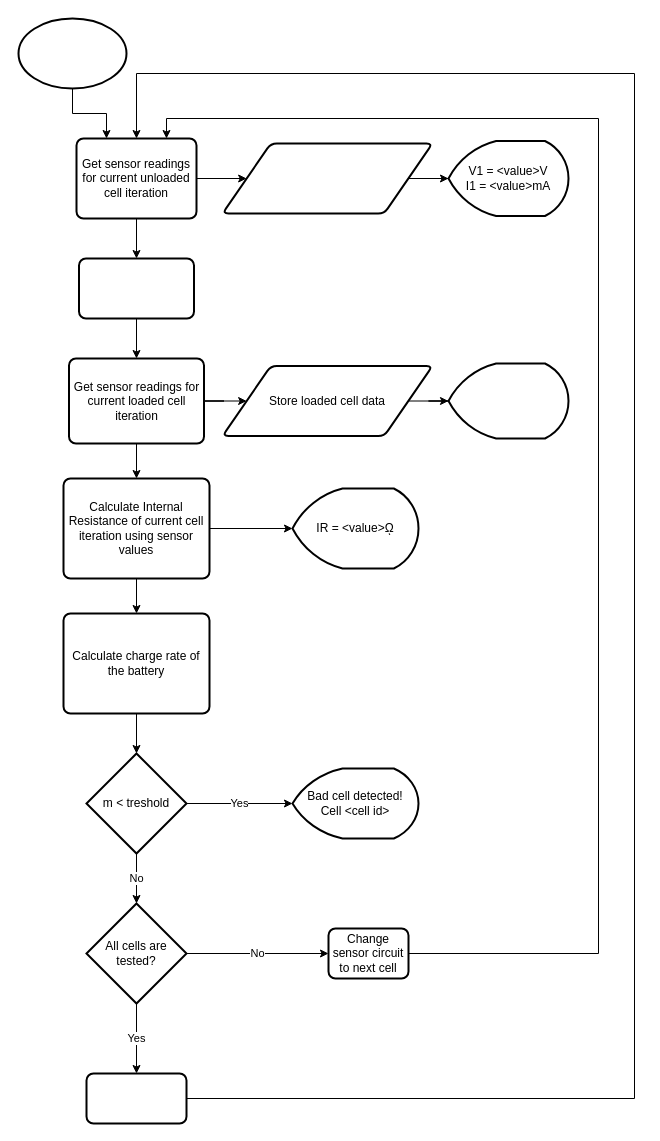
This 660x1141 diagram has some shape labels left out. The box of each missing label's shape, as (x1, y1, x2, y2) in pixels:
1 minute pause: (85, 1072, 187, 1124)
Connect test load to circuit path: (78, 257, 194, 319)
Initalize I/O; set sensor circuit to first cell: (17, 17, 127, 89)
Store unloaded cell data: (221, 142, 433, 214)
V2 = <value>V I2 = <value>mA: (447, 362, 569, 439)
